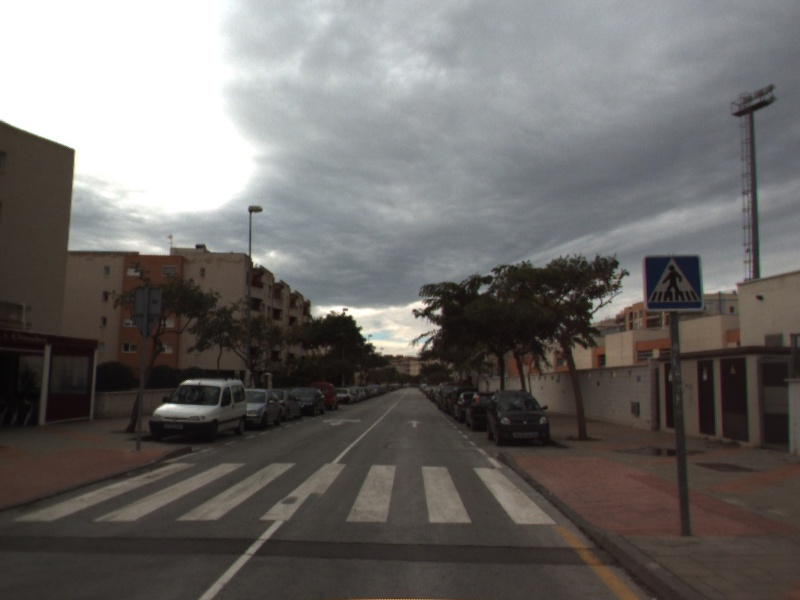STRAIGHT: (405, 418, 424, 430)
